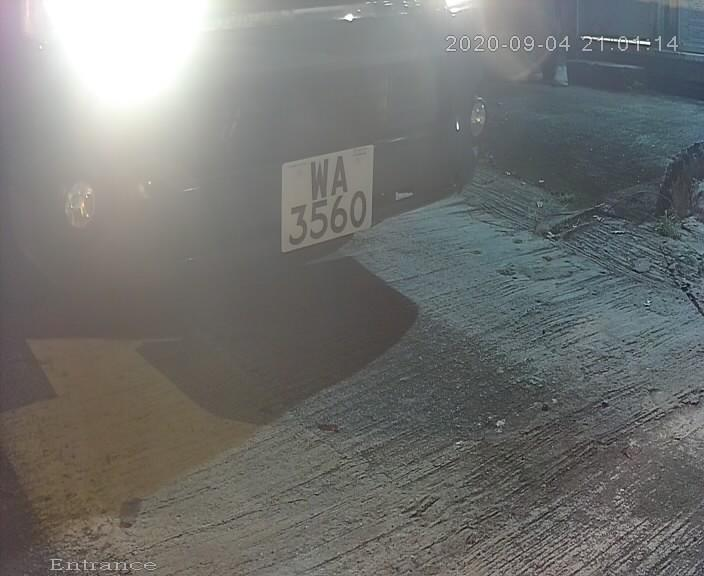License Plate: (274, 129, 384, 265)
